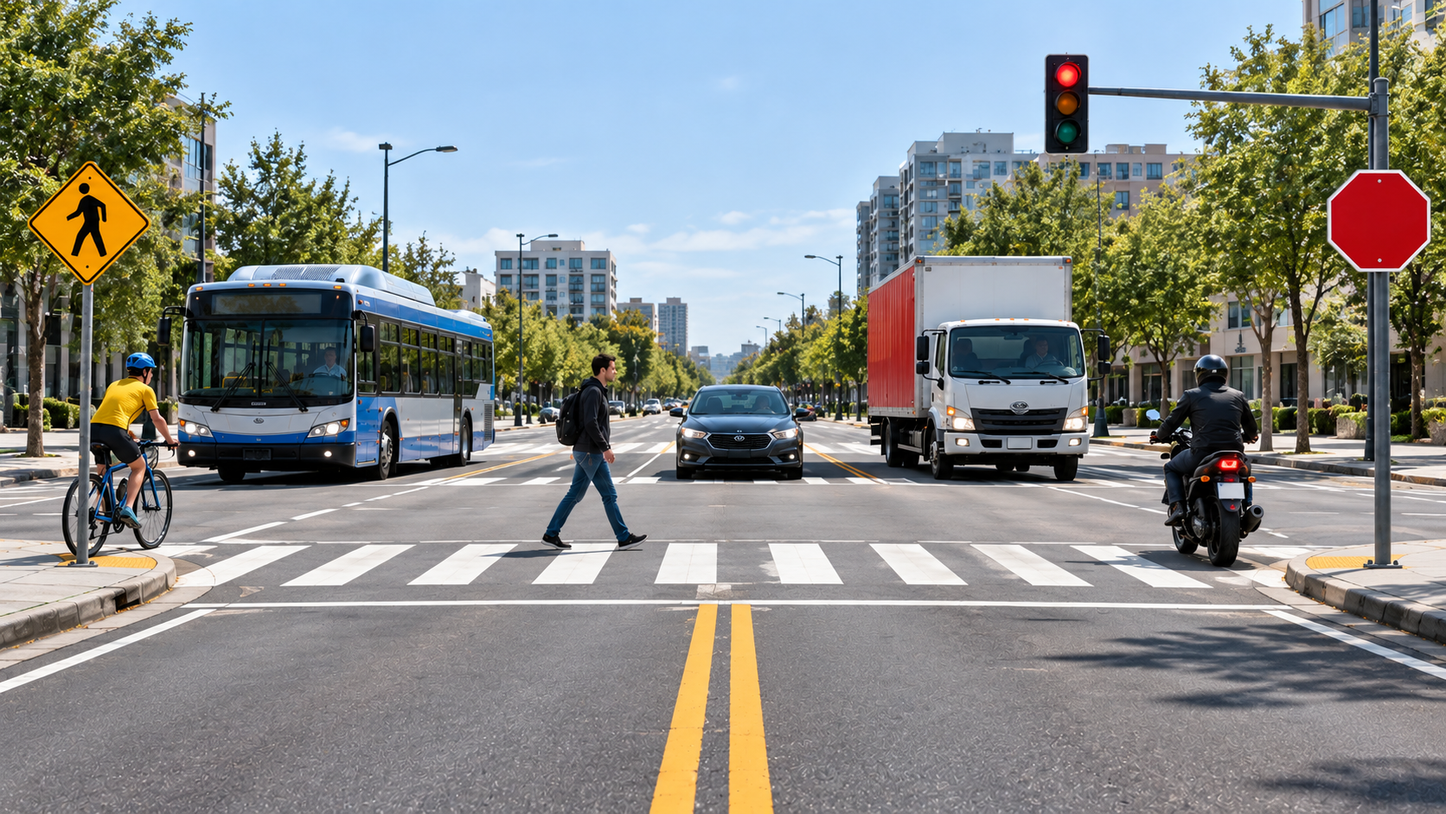bicycle: (41, 402, 186, 565)
bus: (86, 260, 500, 498)
car: (612, 375, 808, 493)
crossing_warning_sign: (22, 159, 159, 302)
motorcycle: (1140, 408, 1276, 568)
person: (491, 343, 642, 561), (52, 346, 182, 541), (1139, 349, 1273, 493)
stop_sign: (1320, 166, 1435, 286)
traffic_light: (1032, 48, 1094, 176)
truck: (811, 275, 1092, 497)
zebra_crossing: (232, 522, 1200, 610)
